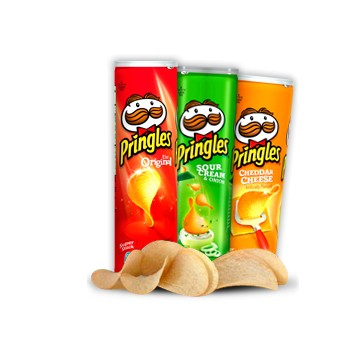pringle: (108, 50, 177, 283)
